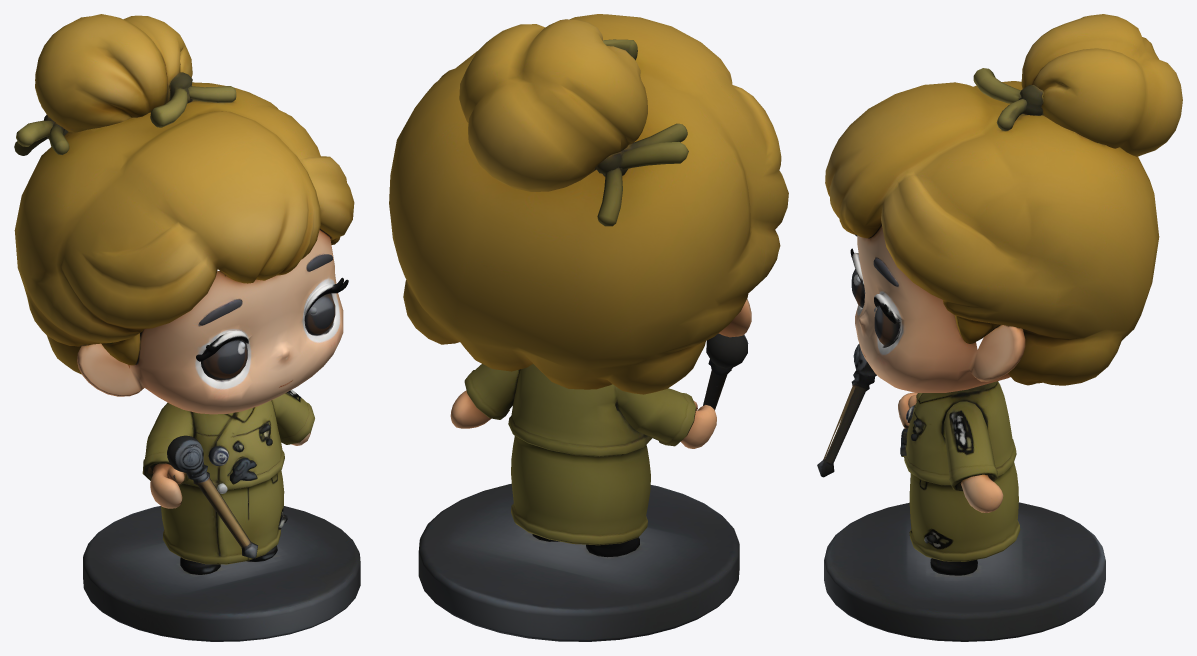
Rendered from myan-queen.glb.
The picture shows the model from 3 angles, left to right: view 1: azimuth 30°, elevation 25°; view 2: azimuth 150°, elevation 25°; view 3: azimuth 270°, elevation 25°; orthographic projection. The views are drawn at different scales.
Visible parts, largest first — view 1: aab16d64_951e_4b8d_9228_1961c2a64bdd; view 2: aab16d64_951e_4b8d_9228_1961c2a64bdd; view 3: aab16d64_951e_4b8d_9228_1961c2a64bdd.
Part boxes in pixels (x1,y1,x2,y2): aab16d64_951e_4b8d_9228_1961c2a64bdd: [14, 14, 360, 641]; aab16d64_951e_4b8d_9228_1961c2a64bdd: [389, 14, 788, 641]; aab16d64_951e_4b8d_9228_1961c2a64bdd: [817, 14, 1182, 641].
Bounding box in the file's own units: 0.5776 × 0.9995 × 0.6187.
1 material, 1 textured.
